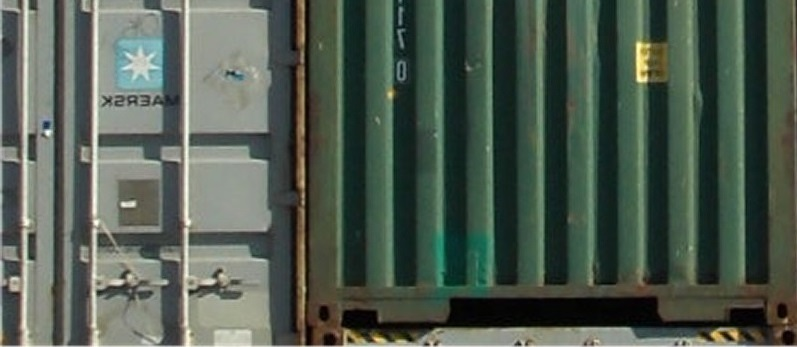container_door: (6, 1, 288, 340)
container_no_door: (313, 4, 790, 322)
